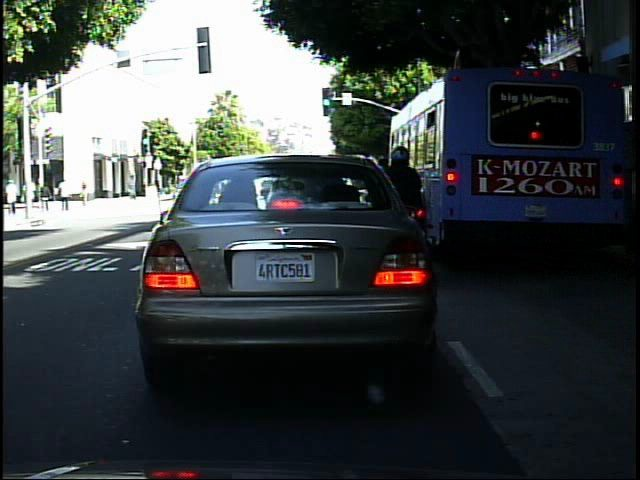person: (372, 141, 438, 269), (5, 175, 21, 220), (58, 175, 75, 215), (23, 176, 38, 217), (77, 174, 94, 210), (38, 180, 54, 216), (36, 176, 53, 209), (125, 171, 141, 203)
